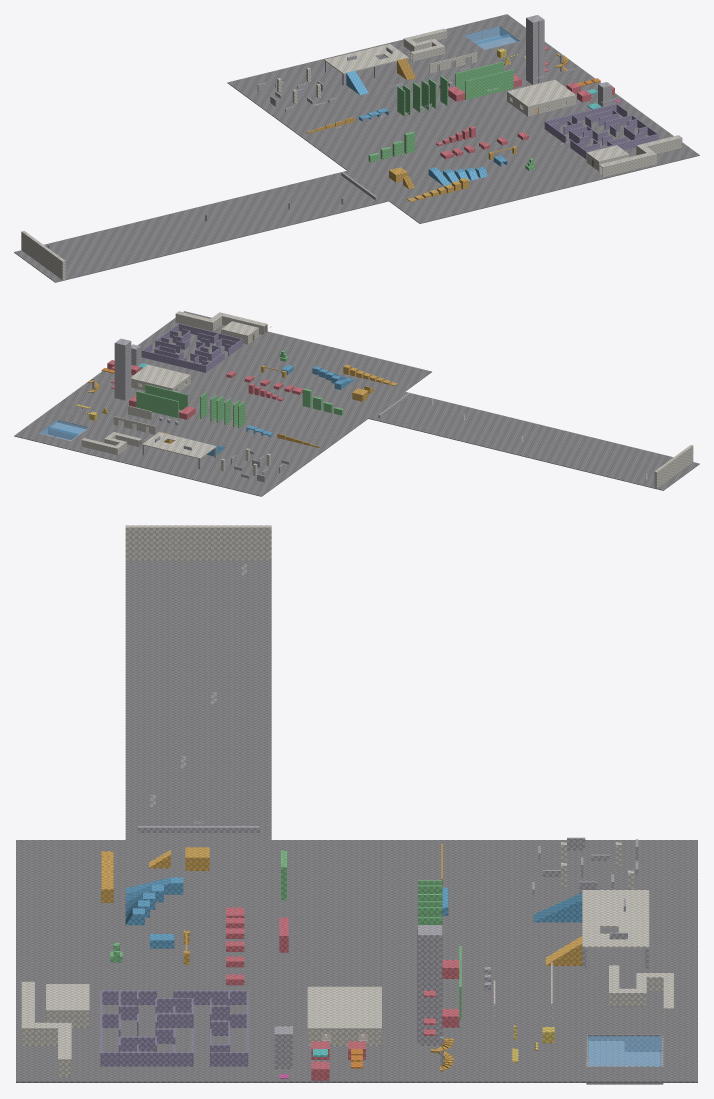
The model's file is playroom.glb.
The picture shows the model from 3 angles, top to bottom: view 1: azimuth 30°, elevation 25°; view 2: azimuth 150°, elevation 25°; view 3: azimuth 270°, elevation 25°; orthographic projection. The views are drawn at different scales.
Visible parts, largest first — view 1: Floor_North, Floor, Floor_Range, Floor_East, Maze_Walls, DarkCorridor, FallTower, Arena2F_Upper, House_Ceiling, Range_BackWall, CameraCorridor, WallRun_Wall_S (+6 smaller); view 2: Floor_North, Floor, Floor_Range, Maze_Walls, Floor_East, FallTower, DarkCorridor, Arena2F_Upper, House_Ceiling, CameraCorridor, Range_BackWall, WallRun_Wall_N (+6 smaller); view 3: Floor_North, Floor, Floor_Range, Floor_East, Maze_Walls, Range_BackWall, Arena2F_Upper, House_Ceiling, FallTower, Pool_Basin, Pool_Water, DarkCorridor (+5 smaller).
Boxes of the visible parts, x1=… form: Floor_North: x1=227, y1=14, x2=594, y2=147; Floor: x1=316, y1=104, x2=598, y2=223; Floor_Range: x1=14, y1=170, x2=388, y2=282; Floor_East: x1=496, y1=81, x2=699, y2=180; Maze_Walls: x1=544, y1=103, x2=658, y2=159; DarkCorridor: x1=599, y1=135, x2=682, y2=177; FallTower: x1=526, y1=15, x2=544, y2=84; Arena2F_Upper: x1=324, y1=44, x2=408, y2=74; House_Ceiling: x1=507, y1=79, x2=576, y2=107; Range_BackWall: x1=21, y1=231, x2=65, y2=280; CameraCorridor: x1=403, y1=28, x2=447, y2=61; WallRun_Wall_S: x1=465, y1=69, x2=513, y2=99; Floor_North: x1=14, y1=378, x2=340, y2=496; Floor: x1=188, y1=333, x2=431, y2=438; Floor_Range: x1=368, y1=391, x2=699, y2=490; Maze_Walls: x1=141, y1=323, x2=242, y2=372; Floor_East: x1=93, y1=311, x2=273, y2=395; FallTower: x1=114, y1=338, x2=131, y2=400; DarkCorridor: x1=175, y1=311, x2=267, y2=334; Arena2F_Upper: x1=142, y1=432, x2=216, y2=458; House_Ceiling: x1=131, y1=364, x2=190, y2=388; CameraCorridor: x1=81, y1=432, x2=141, y2=455; Range_BackWall: x1=654, y1=445, x2=693, y2=488; WallRun_Wall_N: x1=136, y1=391, x2=178, y2=418; Floor_North: x1=381, y1=840, x2=697, y2=1082; Floor: x1=16, y1=840, x2=381, y2=994; Floor_Range: x1=125, y1=561, x2=271, y2=839; Floor_East: x1=16, y1=994, x2=381, y2=1082; Maze_Walls: x1=100, y1=990, x2=248, y2=1066; Range_BackWall: x1=125, y1=525, x2=271, y2=560; Arena2F_Upper: x1=582, y1=890, x2=649, y2=948; House_Ceiling: x1=307, y1=986, x2=381, y2=1029; FallTower: x1=418, y1=925, x2=442, y2=1045; Pool_Basin: x1=586, y1=1034, x2=663, y2=1084; Pool_Water: x1=588, y1=1036, x2=661, y2=1066; DarkCorridor: x1=21, y1=981, x2=71, y2=1076.
Size of the model in its own units: 206 by 24 by 112.
19 materials, 15 textured.
